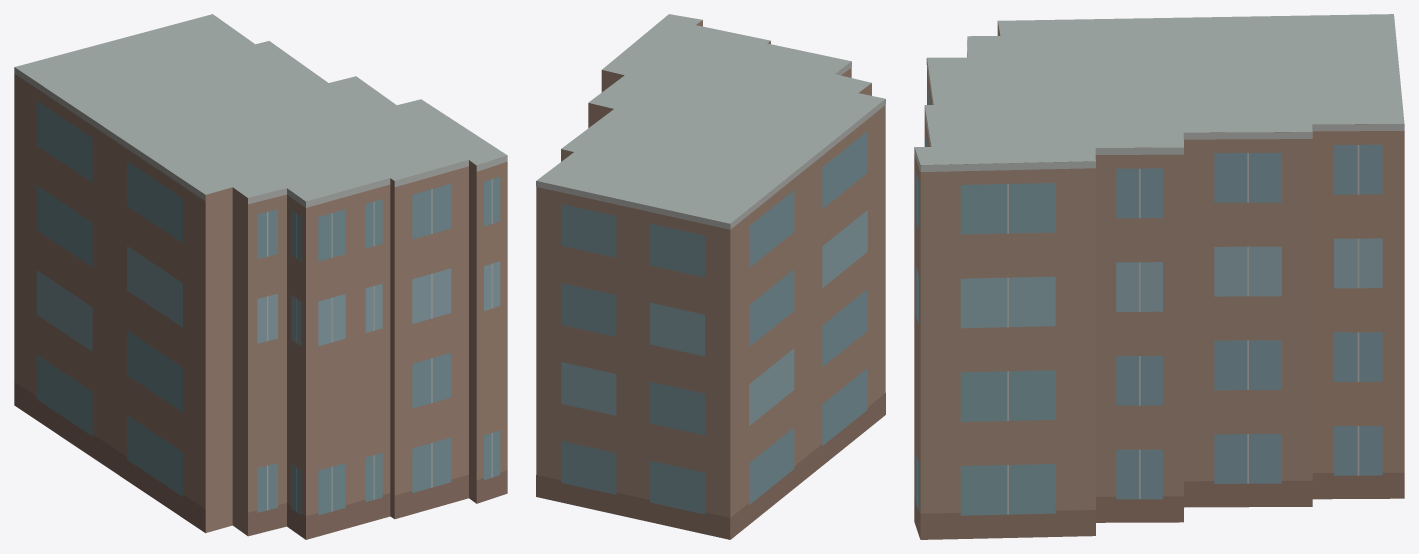
The model's file is survey-upis-32616630.glb.
The picture shows the model from 3 angles, left to right: view 1: azimuth 30°, elevation 25°; view 2: azimuth 150°, elevation 25°; view 3: azimuth 270°, elevation 25°; orthographic projection. The views are drawn at different scales.
Parts seen in each view (by area): view 1: survey-upis-32616630.tmp; view 2: survey-upis-32616630.tmp; view 3: survey-upis-32616630.tmp.
Boxes of the visible parts, x1,y1,x2,y2 form: survey-upis-32616630.tmp: (14, 14, 507, 539); survey-upis-32616630.tmp: (536, 14, 885, 539); survey-upis-32616630.tmp: (914, 14, 1404, 539).
Bounding box in the file's own units: 11.2 × 12.94 × 15.35.
